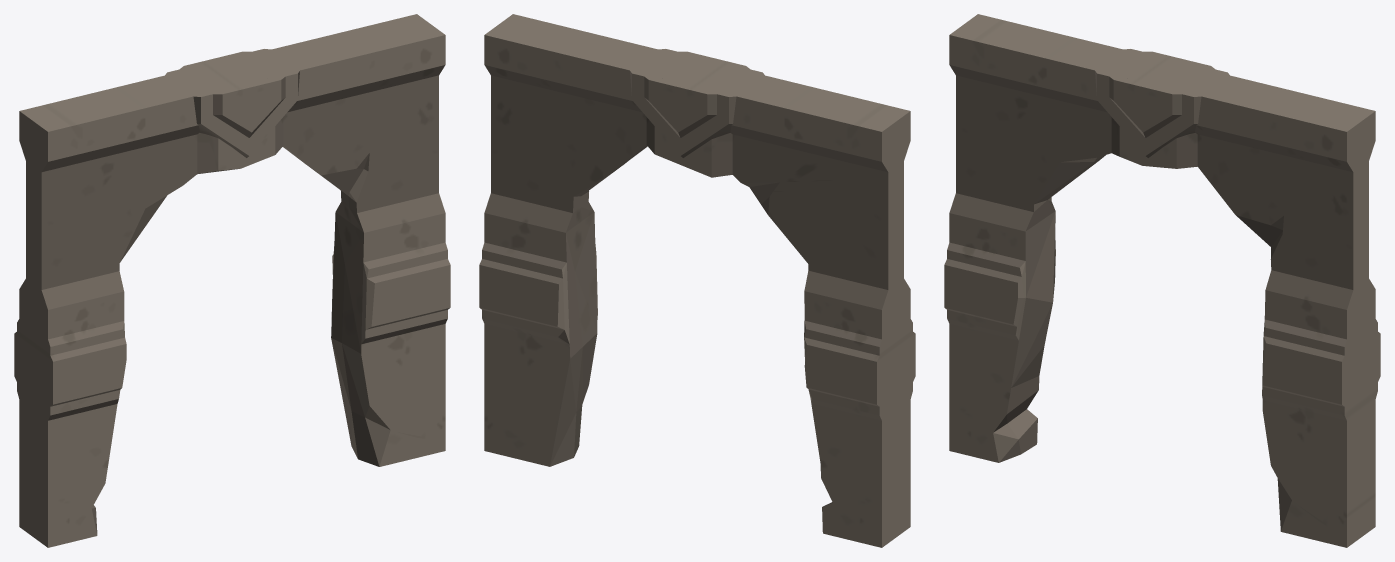
The model's file is forge_wall_broken.gltf.
3 renders of one model, left to right at view 1: azimuth 30°, elevation 25°; view 2: azimuth 150°, elevation 25°; view 3: azimuth 330°, elevation 25°, orthographic.
Parts seen in each view (by area): view 1: forge_wall_broken; view 2: forge_wall_broken; view 3: forge_wall_broken.
Boxes of the visible parts, bbox=[...] form: forge_wall_broken: bbox=[14, 14, 450, 547]; forge_wall_broken: bbox=[479, 14, 915, 547]; forge_wall_broken: bbox=[944, 14, 1380, 547].
Bounding box in the file's own units: 5 × 5 × 0.8432.
Materials: 1 (1 with a texture image).
